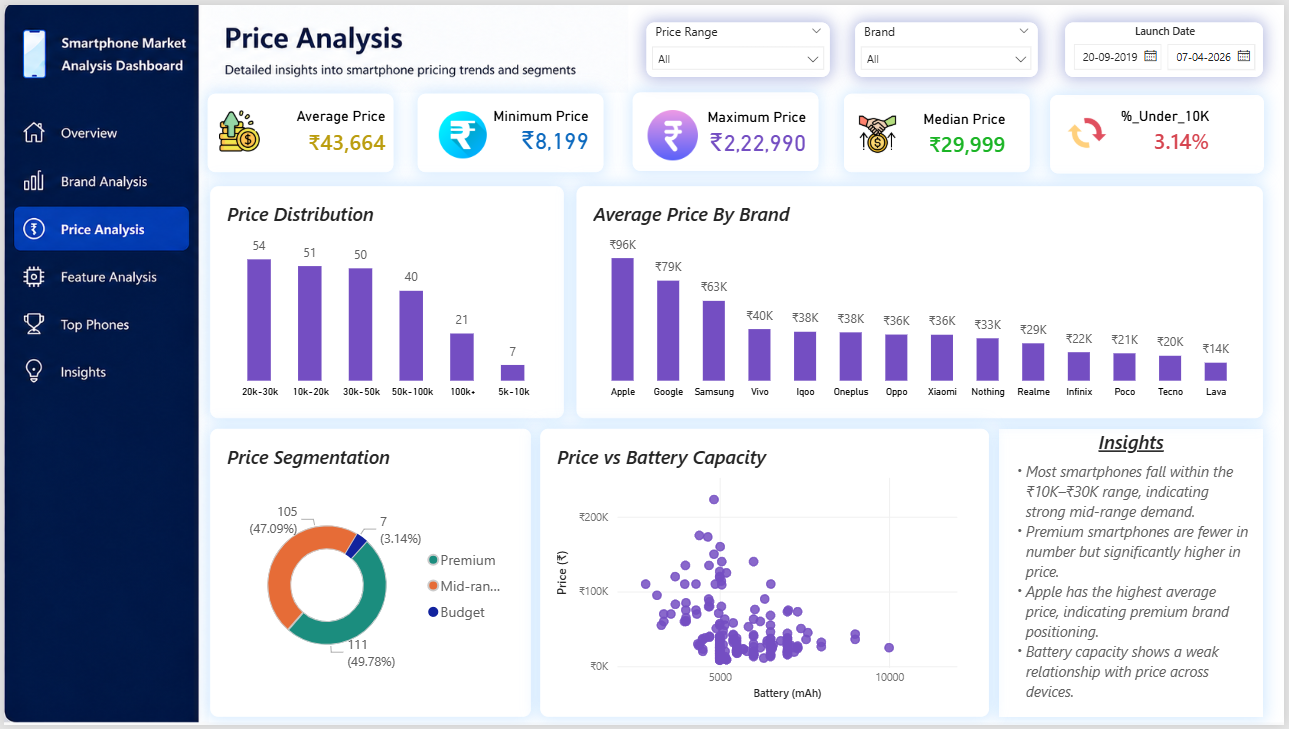

Layout of this report page (visuals, bound fields, positions):
{"tool":"powerbi","page":{"name":"Price Analysis","canvas":[1280,720],"ordinal":2},"visuals":[{"type":"shape","title":"Insights","box":[995.3,423.5,264.2,288.3],"z":0},{"type":"shape","box":[628.8,87.9,185.8,78.4],"z":1000},{"type":"shape","box":[839.9,89.1,185.8,78.4],"z":2000},{"type":"shape","box":[1046,90.5,213.5,78.4],"z":3000},{"type":"shape","box":[414.1,88.3,185.8,78.4],"z":4000},{"type":"shape","box":[203.6,89.3,185.8,78.4],"z":5000},{"type":"actionButton","box":[6,158,185.8,39.8],"z":6000},{"type":"actionButton","box":[6,253.4,185.8,39.8],"z":7000},{"type":"actionButton","box":[15.2,292.7,185.8,39.8],"z":8000},{"type":"actionButton","box":[5.5,347,185.8,48.3],"z":9000},{"type":"actionButton","box":[15.7,253.4,185.8,39.8],"z":10000},{"type":"actionButton","box":[0,108.6,185.8,39.8],"z":11000},{"type":"actionButton","box":[6,293.2,185.8,39.8],"z":12000},{"type":"actionButton","box":[6,347.5,185.8,48.3],"z":13000},{"type":"cardVisual","fields":{"Data":["Avg(Phone_Specs.price_inr)"]},"box":[207.5,85.9,194.2,80.8],"z":14000},{"type":"cardVisual","fields":{"Data":["Min(Phone_Specs.price_inr)"]},"box":[413.6,86.9,183.4,80.8],"z":15000},{"type":"cardVisual","fields":{"Data":["Max(Phone_Specs.price_inr)"]},"box":[631,87.9,183.8,81.2],"z":16000},{"type":"image","box":[214.5,99,41,54.3],"z":17000},{"type":"image","box":[429.8,106.7,57.5,47.5],"z":18000},{"type":"image","box":[638.5,104.4,60,50],"z":19000},{"type":"cardVisual","fields":{"Data":["Median(Phone_Specs.price_inr)"]},"box":[827.6,87.9,194.2,82],"z":20000},{"type":"image","box":[839.7,109.6,67.6,38.6],"z":21000},{"type":"cardVisual","fields":{"Data":["Phone_Specs.%_Under_10K"]},"box":[1022.1,85.5,203.9,82],"z":22000},{"type":"image","box":[1064.1,106,38.6,43.4],"z":23000},{"type":"slicer","fields":{"Values":["Phone_Specs.brand"]},"box":[851.7,16.9,182.2,54.3],"z":24000},{"type":"slicer","fields":{"Values":["Phone_Specs.Price_Range"]},"box":[643,16.9,183.4,54.3],"z":25000},{"type":"slicer","title":"Launch Date","fields":{"Values":["Phone_Specs.launch_date"]},"box":[1061.7,18.1,197.9,54.3],"z":26000},{"type":"columnChart","title":"Price Distribution","fields":{"Category":["Phone_Specs.Price_Range"],"Y":["CountNonNull(Phone_Specs.phone_name)"]},"box":[206.3,181,353.5,231.6],"z":27000},{"type":"columnChart","title":"Average Price By Brand","fields":{"Category":["Phone_Specs.brand"],"Y":["Avg(Phone_Specs.price_inr)"]},"box":[573.1,181,686.5,231.6],"z":28000},{"type":"donutChart","title":"Price Segmentation","fields":{"Category":["Phone_Specs.Price_Category"],"Y":["CountNonNull(Phone_Specs.phone_name)"]},"box":[206.3,423.7,320.9,288.3],"z":29000},{"type":"scatterChart","title":"Price vs Battery Capacity","fields":{"X":["Sum(Phone_Specs.battery)"],"Y":["Phone_Specs.price_inr"]},"box":[536.9,423.5,448.8,288.3],"z":30000},{"type":"textbox","box":[1003.8,456,243.7,247.3],"z":31000}]}

Visuals, with their boxes on the page's 1280x720 design canvas (x1, y1, x2, y2). These are canvas units, not pixel positions in the 1289x729 screenshot, which may show the page scaled, cropped or inside an application window:
"Insights" shape: detection(995, 424, 1260, 712)
shape: detection(629, 88, 815, 166)
shape: detection(840, 89, 1026, 168)
shape: detection(1046, 90, 1260, 169)
shape: detection(414, 88, 600, 167)
shape: detection(204, 89, 389, 168)
actionButton: detection(6, 158, 192, 198)
actionButton: detection(6, 253, 192, 293)
actionButton: detection(15, 293, 201, 332)
actionButton: detection(6, 347, 191, 395)
actionButton: detection(16, 253, 202, 293)
actionButton: detection(0, 109, 186, 148)
actionButton: detection(6, 293, 192, 333)
actionButton: detection(6, 348, 192, 396)
cardVisual - Avg(Phone_Specs.price_inr): detection(208, 86, 402, 167)
cardVisual - Min(Phone_Specs.price_inr): detection(414, 87, 597, 168)
cardVisual - Max(Phone_Specs.price_inr): detection(631, 88, 815, 169)
image: detection(214, 99, 256, 153)
image: detection(430, 107, 487, 154)
image: detection(638, 104, 698, 154)
cardVisual - Median(Phone_Specs.price_inr): detection(828, 88, 1022, 170)
image: detection(840, 110, 907, 148)
cardVisual - Phone_Specs.%_Under_10K: detection(1022, 86, 1226, 168)
image: detection(1064, 106, 1103, 149)
slicer - Phone_Specs.brand: detection(852, 17, 1034, 71)
slicer - Phone_Specs.Price_Range: detection(643, 17, 826, 71)
"Launch Date" slicer: detection(1062, 18, 1260, 72)
"Price Distribution" columnChart: detection(206, 181, 560, 413)
"Average Price By Brand" columnChart: detection(573, 181, 1260, 413)
"Price Segmentation" donutChart: detection(206, 424, 527, 712)
"Price vs Battery Capacity" scatterChart: detection(537, 424, 986, 712)
textbox: detection(1004, 456, 1248, 703)
